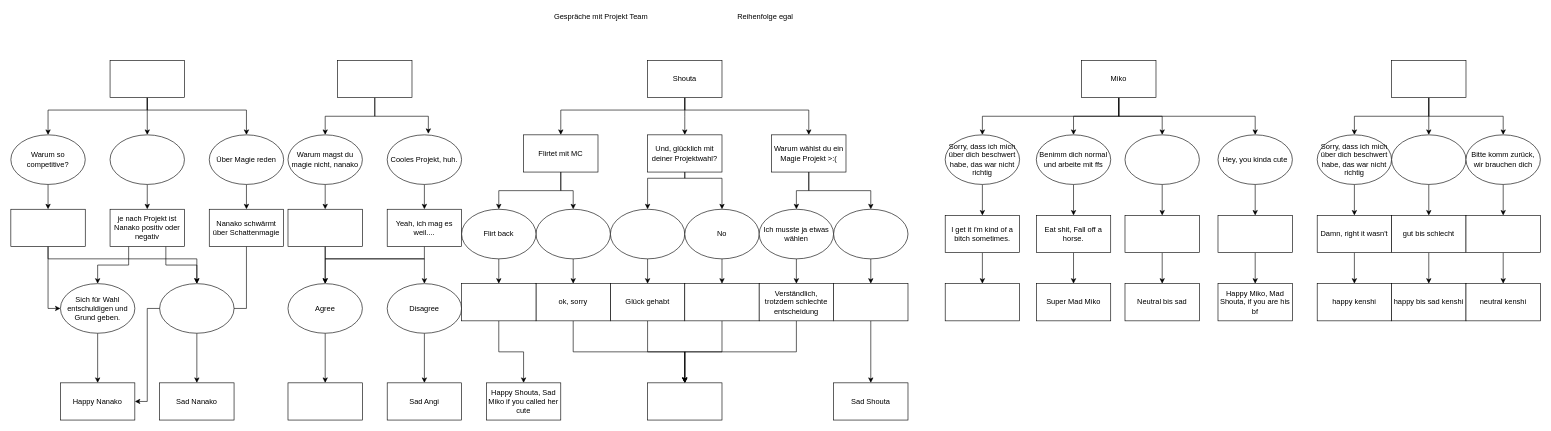
This 1551x431 diagram has some shape labels left out. The centre of each missing label's shape, as x and y in pixels:
Angi: [374,79]
Antwort basiert auf Projekt: [1161,234]
Grund: [47,227]
Happy Angi: [324,401]
Happy Miko you friends now: [982,302]
I know: [1254,234]
Ich kann keine Magie benutzen: [324,227]
is it, though?: [870,302]
Kenshi: [1428,79]
let's be a couple: [498,302]
Magie Cool: [870,234]
Nanako: [146,79]
Neutral Shota: [684,401]
ok, i guess: [1502,234]
Please don't: [572,234]
Sagen, man mag das projekt: [196,308]
Verständlich, war eine schwere entscheidung: [721,302]
Wie läuft das projekt?: [1428,159]
Wie läuft es mit deinem teil vom Projekt: [1161,159]
Yes: [647,234]
Über Projekt reden: [146,159]
